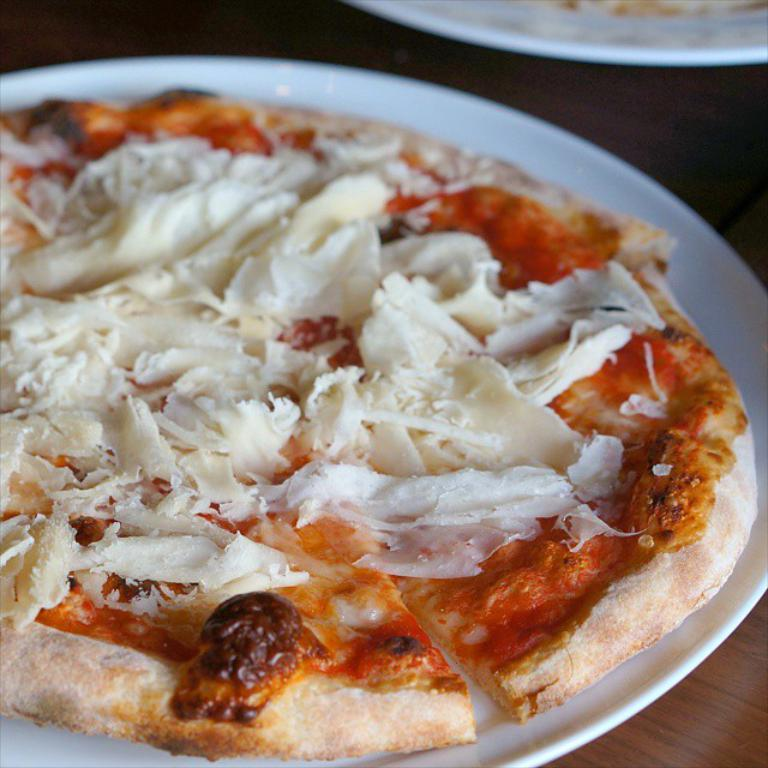Pizza: (0, 86, 760, 758)
